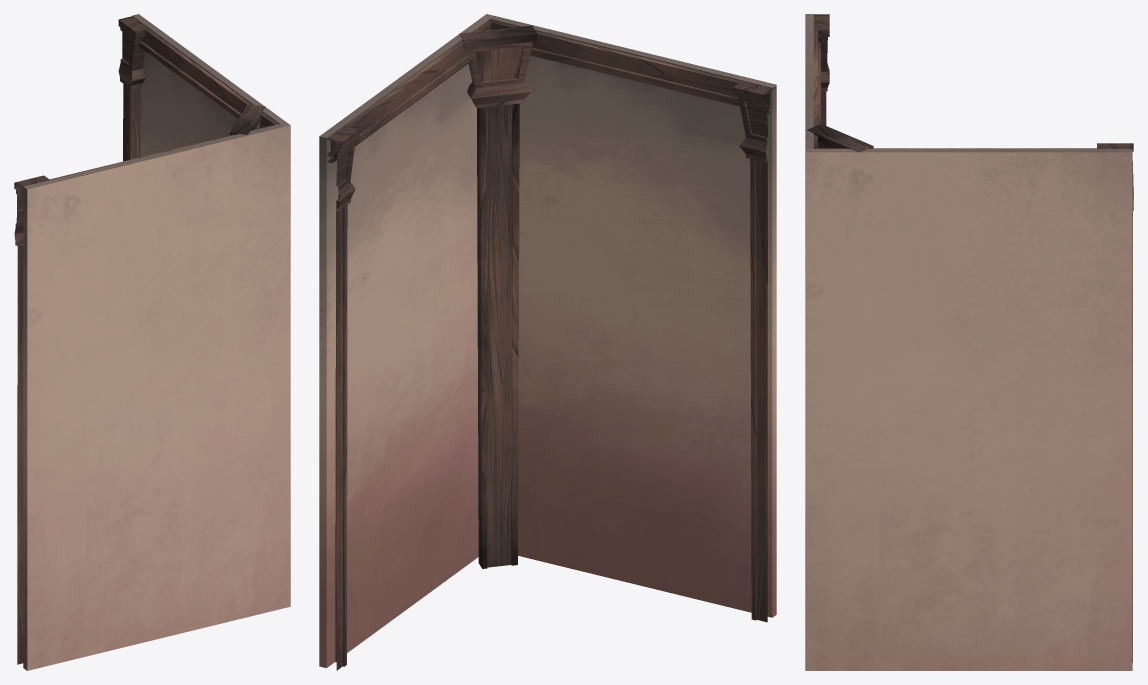
File: Wall_Top_InnerCorner_V1.fbx
3 renders of one model, left to right at view 1: azimuth 30°, elevation 25°; view 2: azimuth 150°, elevation 25°; view 3: azimuth 270°, elevation 25°, orthographic. The views are drawn at different scales.
Visible parts, largest first — view 1: Inner_Corner_Wall_Top; view 2: Inner_Corner_Wall_Top; view 3: Inner_Corner_Wall_Top.
Part boxes in pixels (bbox=[...]): Inner_Corner_Wall_Top: bbox=[14, 14, 290, 670]; Inner_Corner_Wall_Top: bbox=[319, 14, 776, 670]; Inner_Corner_Wall_Top: bbox=[805, 14, 1133, 670].
Size of the model in its own units: 0.0242 by 0.042 by 0.0241.
